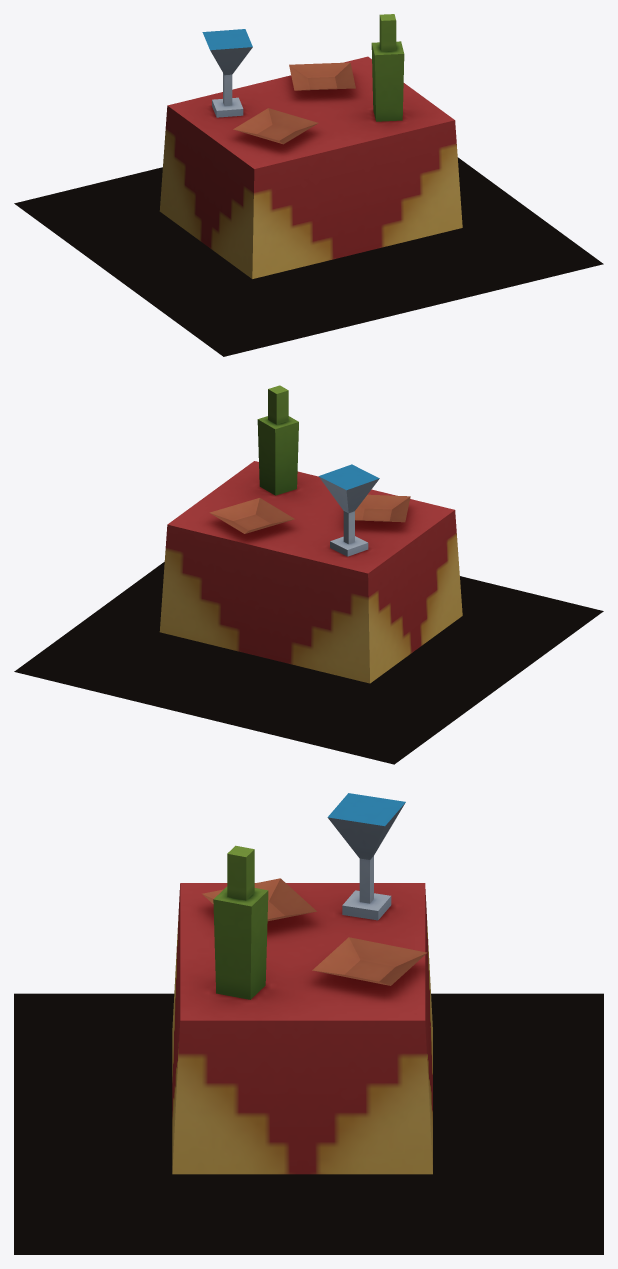
The model's file is ballroom_death_floor.FBX.
3 views of the same model, one above another, from view 1: azimuth 30°, elevation 25°; view 2: azimuth 150°, elevation 25°; view 3: azimuth 270°, elevation 25° (orthographic). The views are drawn at different scales.
Visible parts, largest first — view 1: ballroom_death_floor, ballroom_death_floor_soft_shadow; view 2: ballroom_death_floor, ballroom_death_floor_soft_shadow; view 3: ballroom_death_floor_soft_shadow, ballroom_death_floor.
Boxes of the visible parts, left/top/right/bottom form: ballroom_death_floor: left=159, top=14, right=462, bottom=278; ballroom_death_floor_soft_shadow: left=14, top=157, right=603, bottom=356; ballroom_death_floor: left=159, top=385, right=462, bottom=683; ballroom_death_floor_soft_shadow: left=14, top=562, right=603, bottom=764; ballroom_death_floor_soft_shadow: left=14, top=993, right=603, bottom=1254; ballroom_death_floor: left=172, top=793, right=432, bottom=1174.
Size of the model in its own units: 1776 by 985 by 1696.
